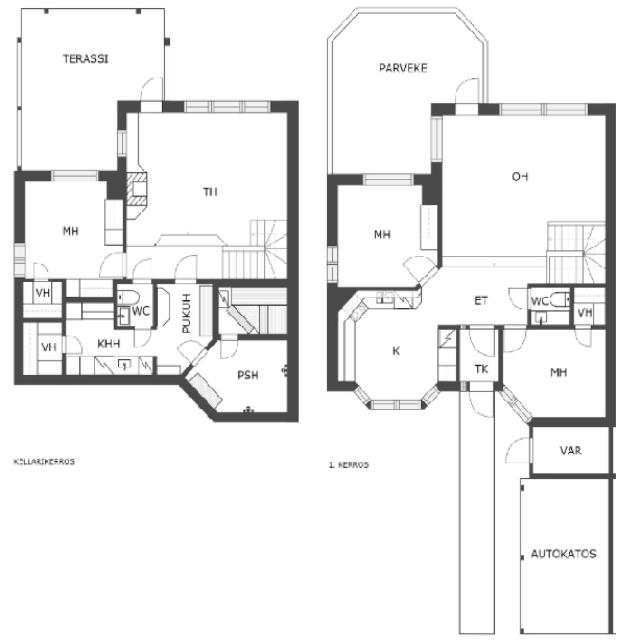door: (450, 73, 483, 119), (466, 378, 498, 423), (465, 322, 500, 359), (398, 252, 436, 286), (503, 433, 537, 470), (137, 74, 167, 115), (94, 248, 128, 282), (170, 252, 202, 286), (500, 323, 530, 358), (176, 336, 210, 365), (505, 283, 533, 313), (216, 333, 241, 363), (130, 256, 154, 285), (572, 323, 596, 351), (130, 324, 153, 351), (61, 332, 85, 357), (31, 258, 52, 284)
window: (175, 94, 277, 119), (496, 98, 595, 121), (43, 3, 143, 18), (354, 168, 420, 190), (44, 164, 104, 187), (366, 394, 427, 416), (426, 110, 448, 170), (322, 242, 342, 288), (112, 125, 130, 163), (351, 384, 374, 408)
zone: (121, 106, 292, 276), (437, 109, 612, 269), (334, 287, 454, 403), (330, 178, 441, 289), (18, 176, 126, 282), (500, 325, 612, 423), (192, 336, 294, 418), (64, 298, 150, 380), (529, 422, 613, 477), (213, 282, 295, 338), (18, 318, 65, 380), (529, 283, 572, 327), (17, 280, 64, 320), (116, 282, 154, 330), (571, 285, 611, 328)
